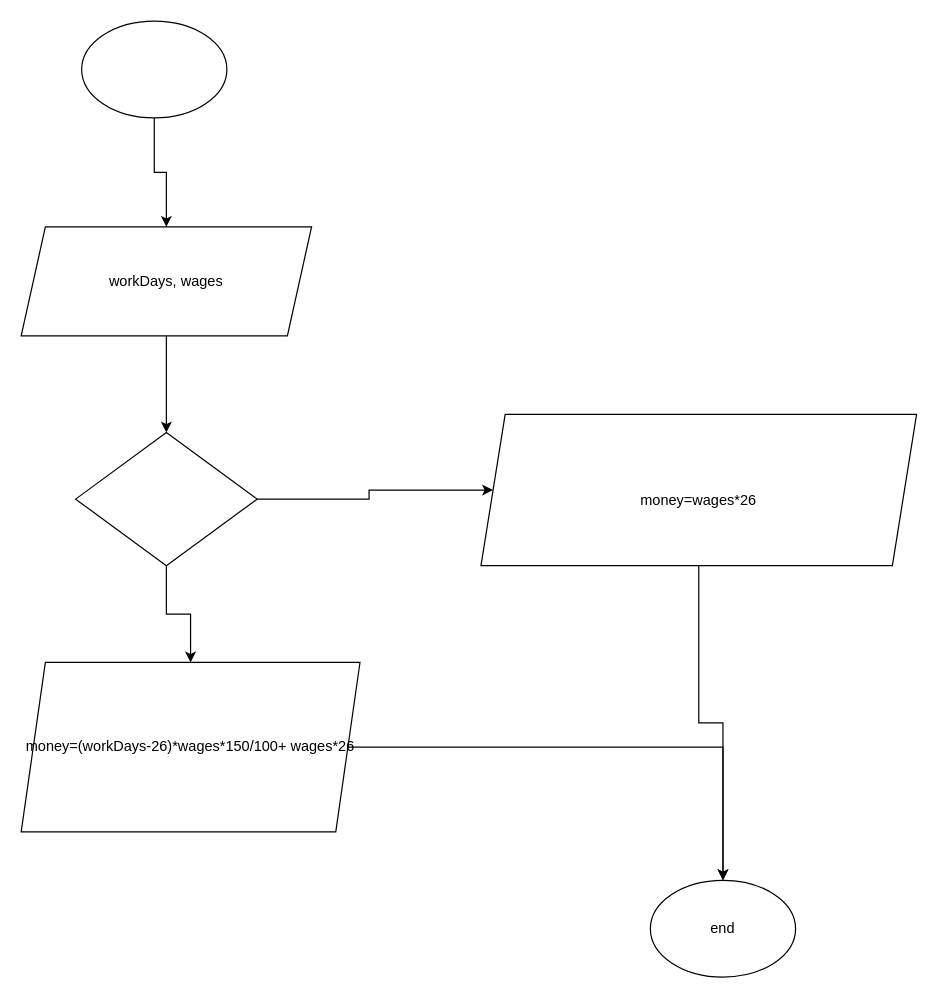
This 938x998 diagram has some shape labels left out. The shapes that lost their labels are listed below. From the top down, each one's centre as x and y in pixels, then its label:
[153,69]: start
[165,498]: workDays>26
